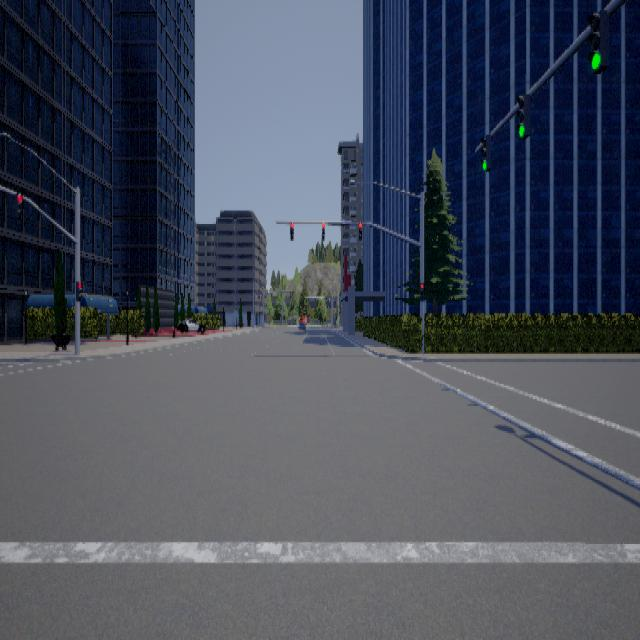green_light: (587, 8, 608, 72), (516, 93, 529, 138), (480, 133, 490, 170)
red_light: (14, 192, 22, 217), (75, 280, 82, 300), (419, 281, 424, 300), (358, 221, 362, 239), (290, 221, 294, 239), (322, 222, 325, 240)
